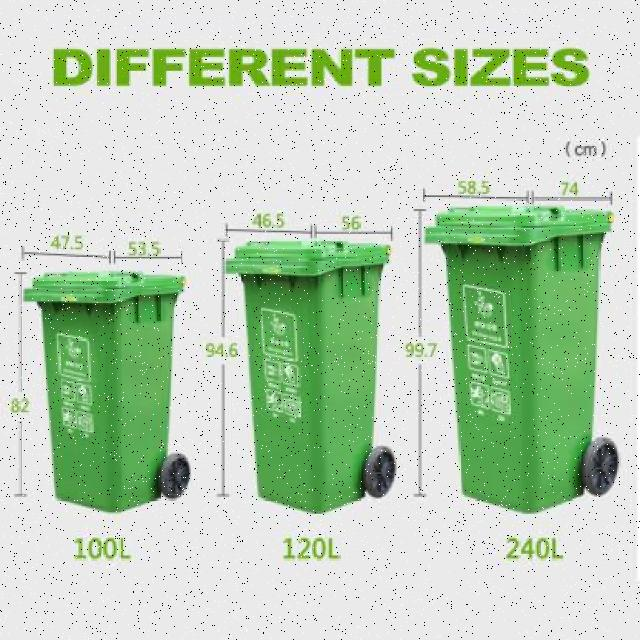garbage container: (422, 205, 626, 524)
